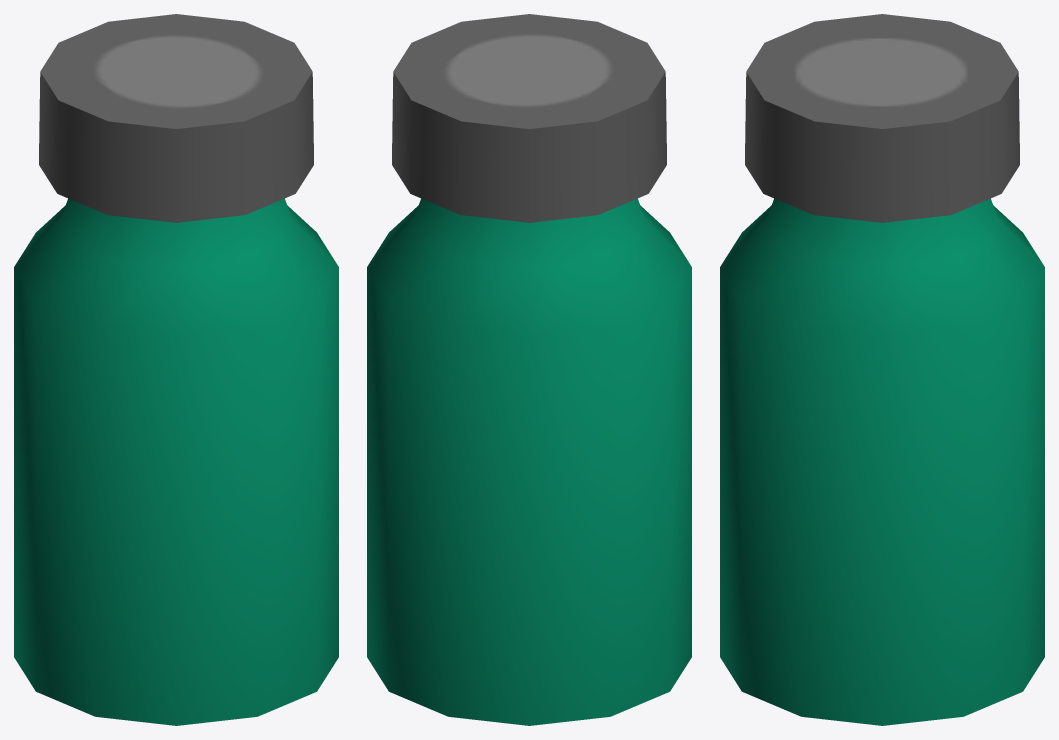
The model's file is vial3.FBX.
3 views of the same model, side by side, from view 1: azimuth 30°, elevation 25°; view 2: azimuth 150°, elevation 25°; view 3: azimuth 270°, elevation 25° (orthographic).
Parts seen in each view (by area): view 1: vial3; view 2: vial3; view 3: vial3.
Boxes of the visible parts, box(x1,y1,x2,y2) form: vial3: box(14, 14, 338, 725); vial3: box(367, 14, 691, 725); vial3: box(720, 14, 1044, 725).
Size of the model in its own units: 2.15 by 2.15 by 4.28.
